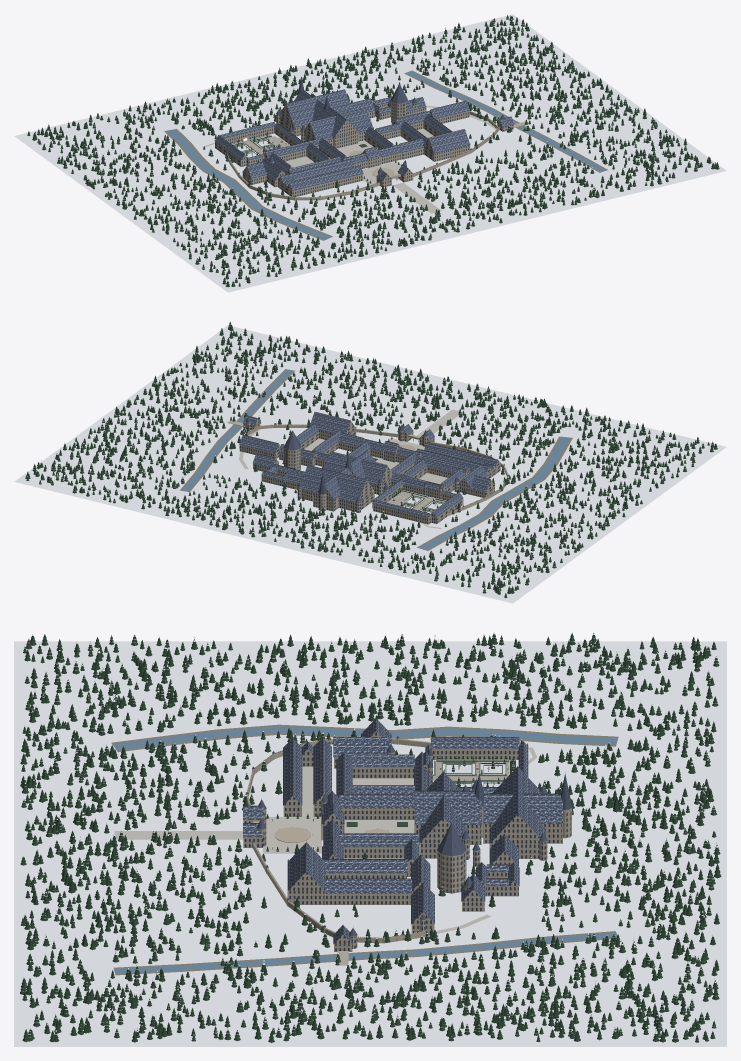
File: lahudi-academy.glb
3 views of the same model, one above another, from view 1: azimuth 30°, elevation 25°; view 2: azimuth 150°, elevation 25°; view 3: azimuth 270°, elevation 25° (orthographic). The views are drawn at different scales.
Parts seen in each view (by area): view 1: plane, L08_library_roof, ribbon, L04_wings_roof, ribbon.002, ribbon.001, hall_roof.021, hall_roof.014, ribbon.003, hall_roof.013, hall.014, L04_centre_roof; view 2: plane, L08_library_roof, ribbon, L04_wings_roof, ribbon.002, ribbon.001, hall_roof.021, hall_roof.014, ribbon.003, hall_roof.013; view 3: plane, ribbon, L08_library_roof, ribbon.002, ribbon.001, ribbon.003, L04_centre_roof, L04_wings_roof, L08_nave_roof, hall_roof.021, plane.006, hall_roof.014 (+19 smaller).
Boxes of the visible parts, bbox=[...] form: plane: bbox=[14, 14, 726, 292]; L08_library_roof: bbox=[279, 89, 352, 127]; ribbon: bbox=[166, 129, 331, 239]; L04_wings_roof: bbox=[304, 108, 373, 142]; ribbon.002: bbox=[406, 71, 606, 172]; ribbon.001: bbox=[164, 129, 332, 240]; hall_roof.021: bbox=[423, 129, 469, 153]; hall_roof.014: bbox=[287, 166, 363, 190]; ribbon.003: bbox=[404, 70, 607, 172]; hall_roof.013: bbox=[278, 159, 354, 183]; hall.014: bbox=[287, 174, 363, 196]; L04_centre_roof: bbox=[316, 107, 357, 136]; plane: bbox=[14, 325, 726, 603]; L08_library_roof: bbox=[301, 465, 374, 502]; ribbon: bbox=[419, 436, 570, 550]; L04_wings_roof: bbox=[325, 451, 393, 485]; ribbon.002: bbox=[181, 369, 293, 491]; ribbon.001: bbox=[417, 436, 572, 550]; hall_roof.021: bbox=[309, 412, 356, 433]; hall_roof.014: bbox=[424, 442, 500, 467]; ribbon.003: bbox=[180, 369, 295, 491]; hall_roof.013: bbox=[418, 449, 491, 473]; plane: bbox=[14, 641, 726, 1046]; ribbon: bbox=[112, 726, 617, 750]; L08_library_roof: bbox=[489, 767, 545, 843]; ribbon.002: bbox=[114, 932, 617, 973]; ribbon.001: bbox=[111, 724, 618, 752]; ribbon.003: bbox=[113, 931, 616, 975]; L04_centre_roof: bbox=[414, 791, 481, 824]; L04_wings_roof: bbox=[419, 772, 467, 843]; L08_nave_roof: bbox=[483, 794, 562, 823]; hall_roof.021: bbox=[287, 842, 325, 891]; plane.006: bbox=[263, 817, 321, 853]; hall_roof.014: bbox=[283, 738, 302, 805].
Bounding box in the file's own units: 1134 × 87.3 × 842.
24 materials, 4 textured.
